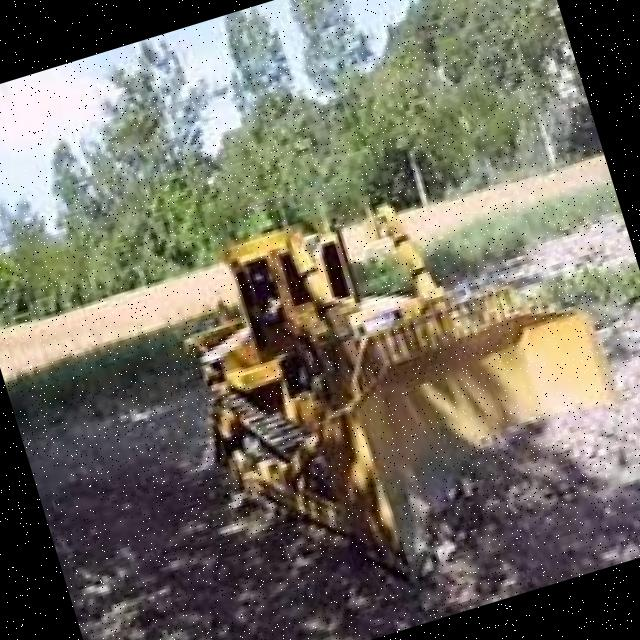Bulldozer: (116, 124, 640, 635)
